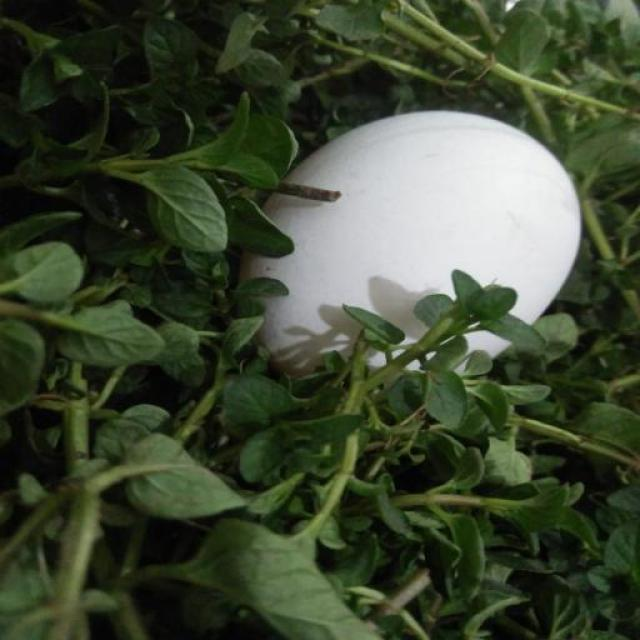telur: (250, 112, 579, 378)
